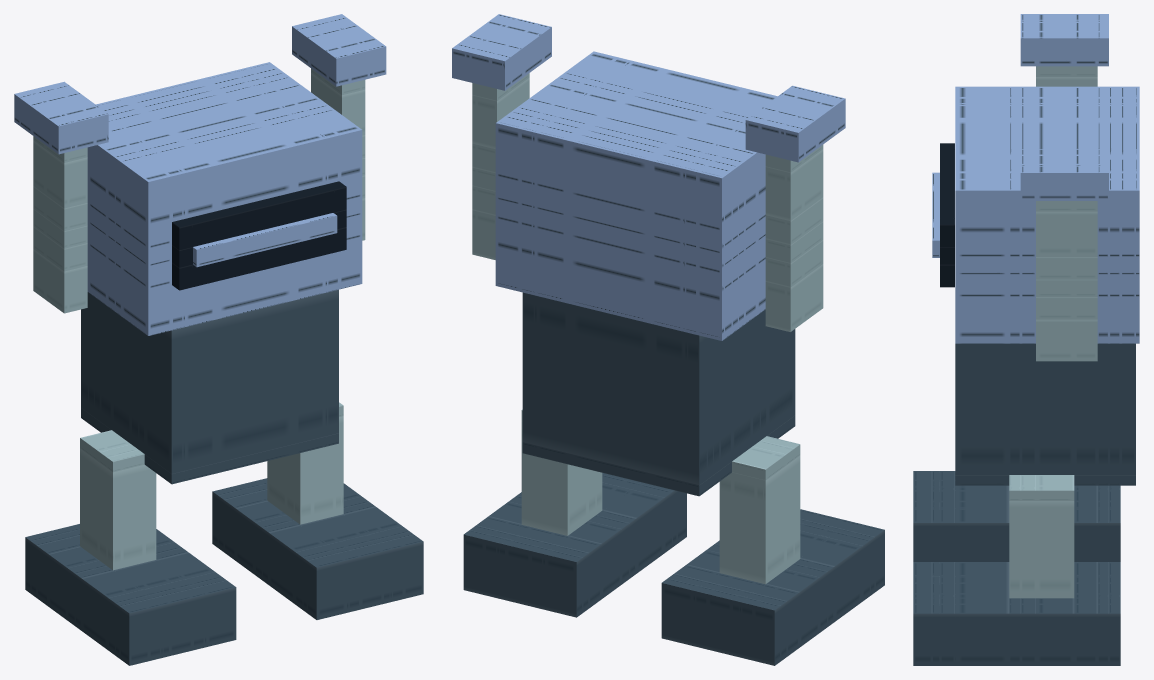
Rendered from sc_robot_relay.obj.
The picture shows the model from 3 angles, left to right: view 1: azimuth 30°, elevation 25°; view 2: azimuth 150°, elevation 25°; view 3: azimuth 270°, elevation 25°; orthographic projection. The views are drawn at different scales.
Bounding box in the file's own units: 9.8 × 14.4 × 5.9.
1 material, 1 textured.
